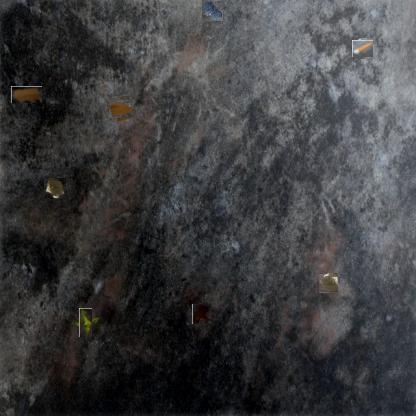dirty: (11, 86, 42, 103), (110, 98, 132, 120), (44, 177, 66, 199), (75, 312, 96, 333), (353, 39, 372, 58), (318, 274, 338, 292)
liquid: (201, 1, 223, 21), (192, 305, 212, 324)
